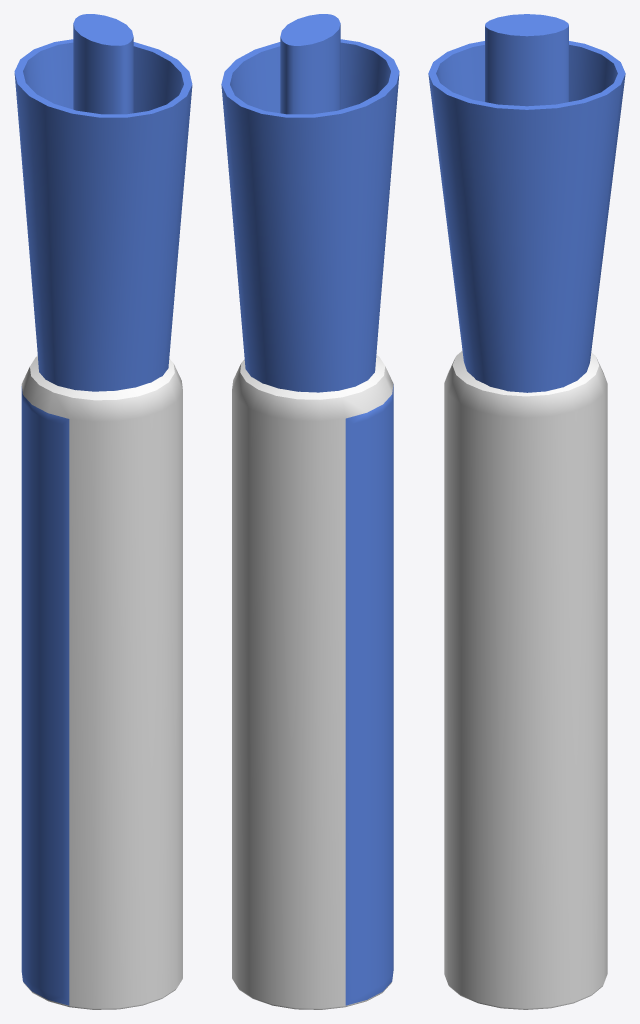
File: marker_with_cap.fbx
The picture shows the model from 3 angles, left to right: view 1: azimuth 30°, elevation 25°; view 2: azimuth 150°, elevation 25°; view 3: azimuth 270°, elevation 25°; orthographic projection.
Visible parts, largest first — view 1: marker1, marker_cap; view 2: marker1, marker_cap; view 3: marker1, marker_cap.
Boxes of the visible parts, left/top/right/bottom form: marker1: left=21, top=356, right=182, bottom=1009; marker_cap: left=14, top=14, right=192, bottom=391; marker1: left=232, top=355, right=393, bottom=1009; marker_cap: left=221, top=14, right=399, bottom=392; marker1: left=444, top=351, right=607, bottom=1009; marker_cap: left=428, top=14, right=625, bottom=392.
Size of the model in its own units: 2.12 by 12.86 by 2.41.
